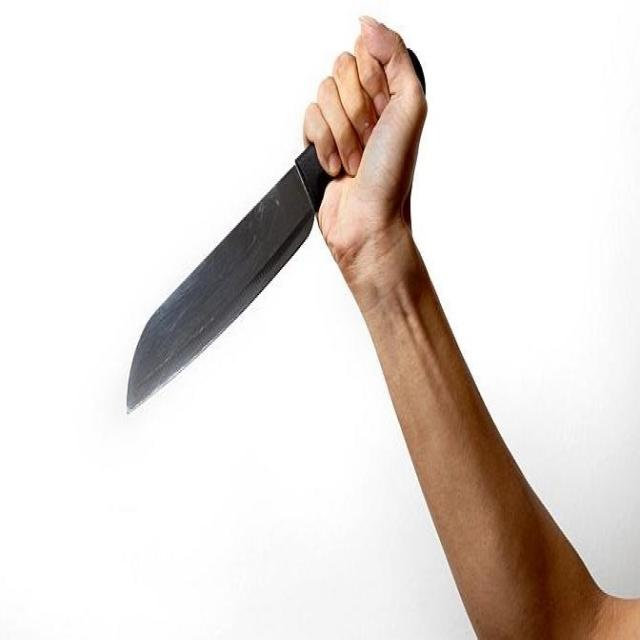knife: (119, 160, 327, 421)
